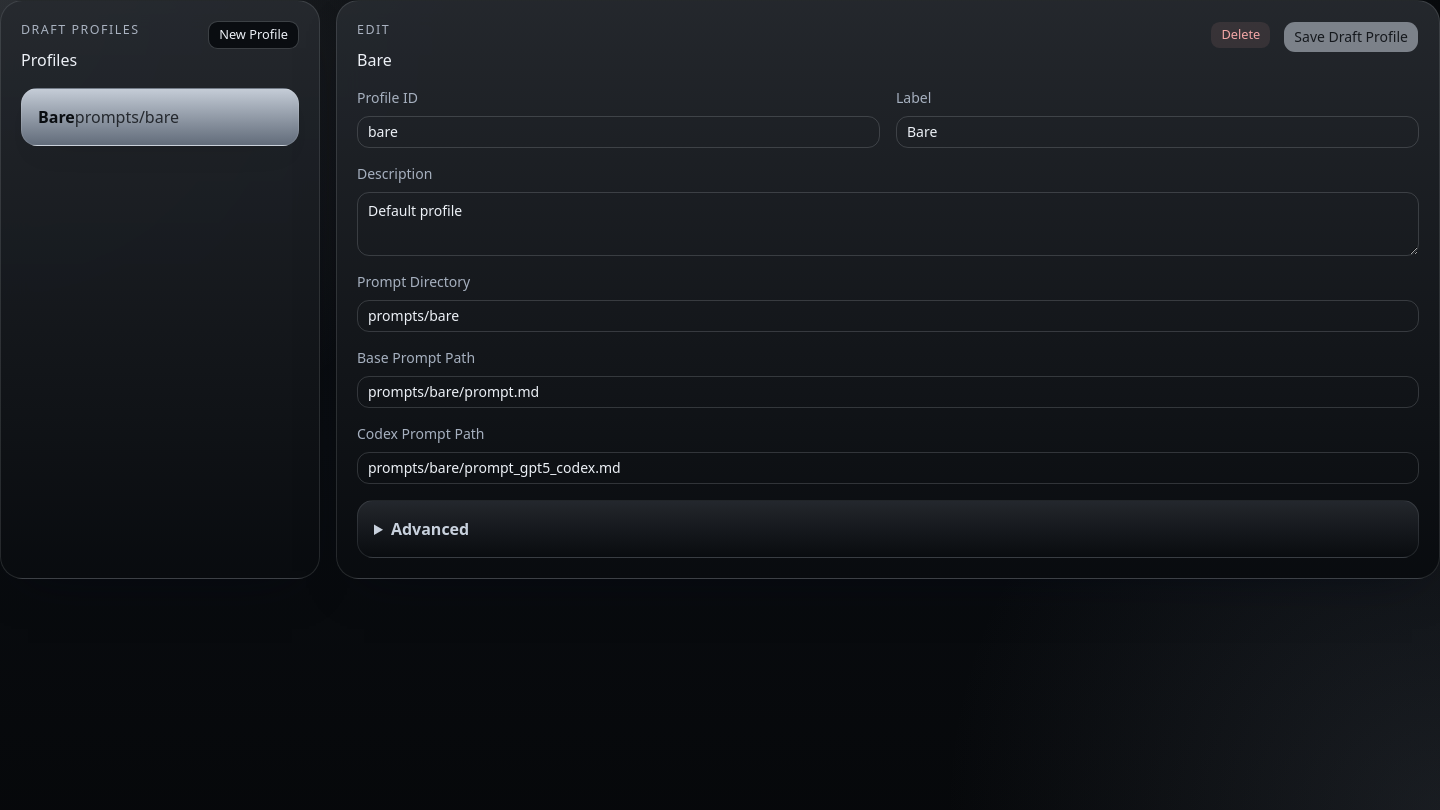
admin config editor forms › blocks creating a profile when the required id is blank
This screenshot has width=1440, height=810.
Click the button "New Profile" at (254, 35), box [208,21,299,49]
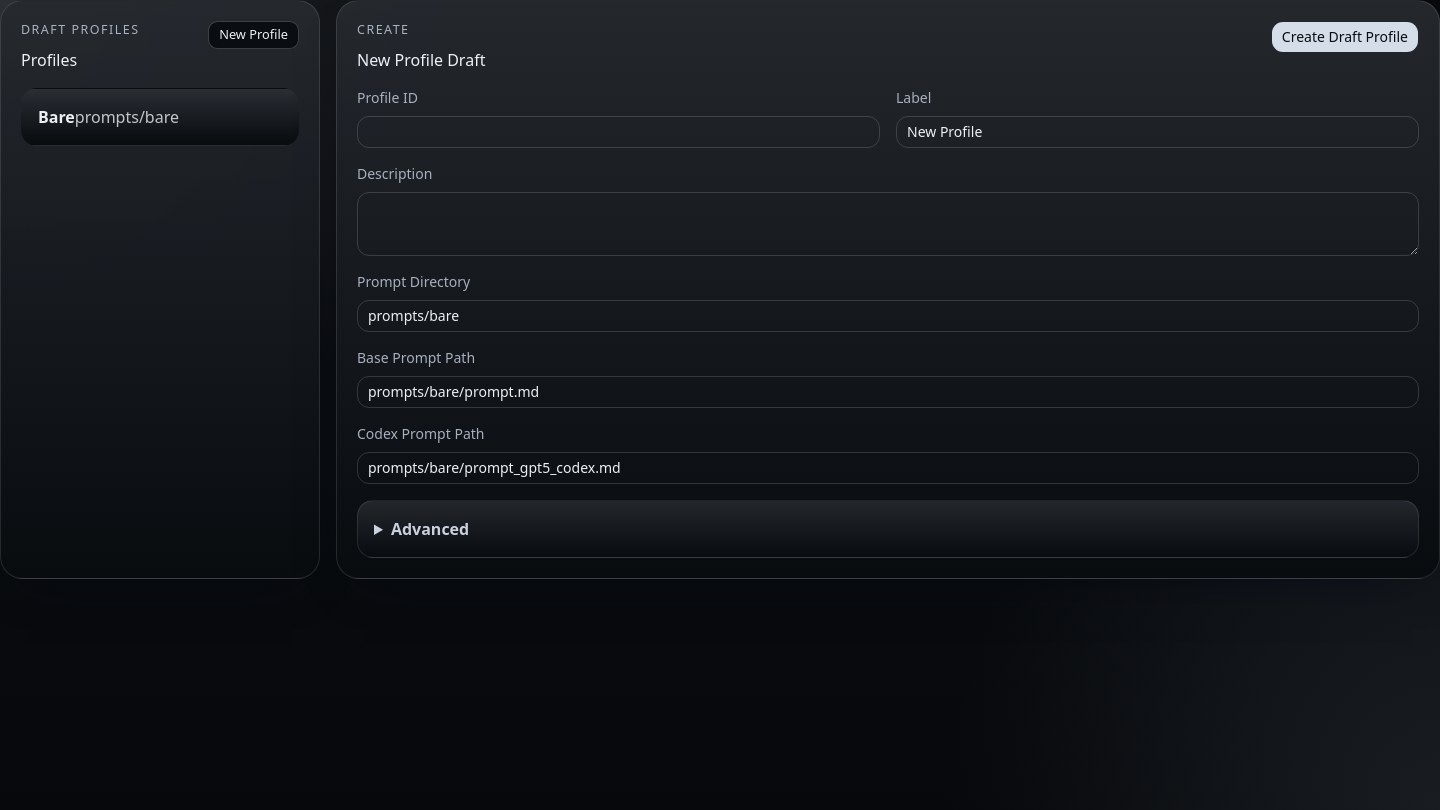
Click the button "Create Draft Profile" at (1345, 37), box [1271,21,1419,53]
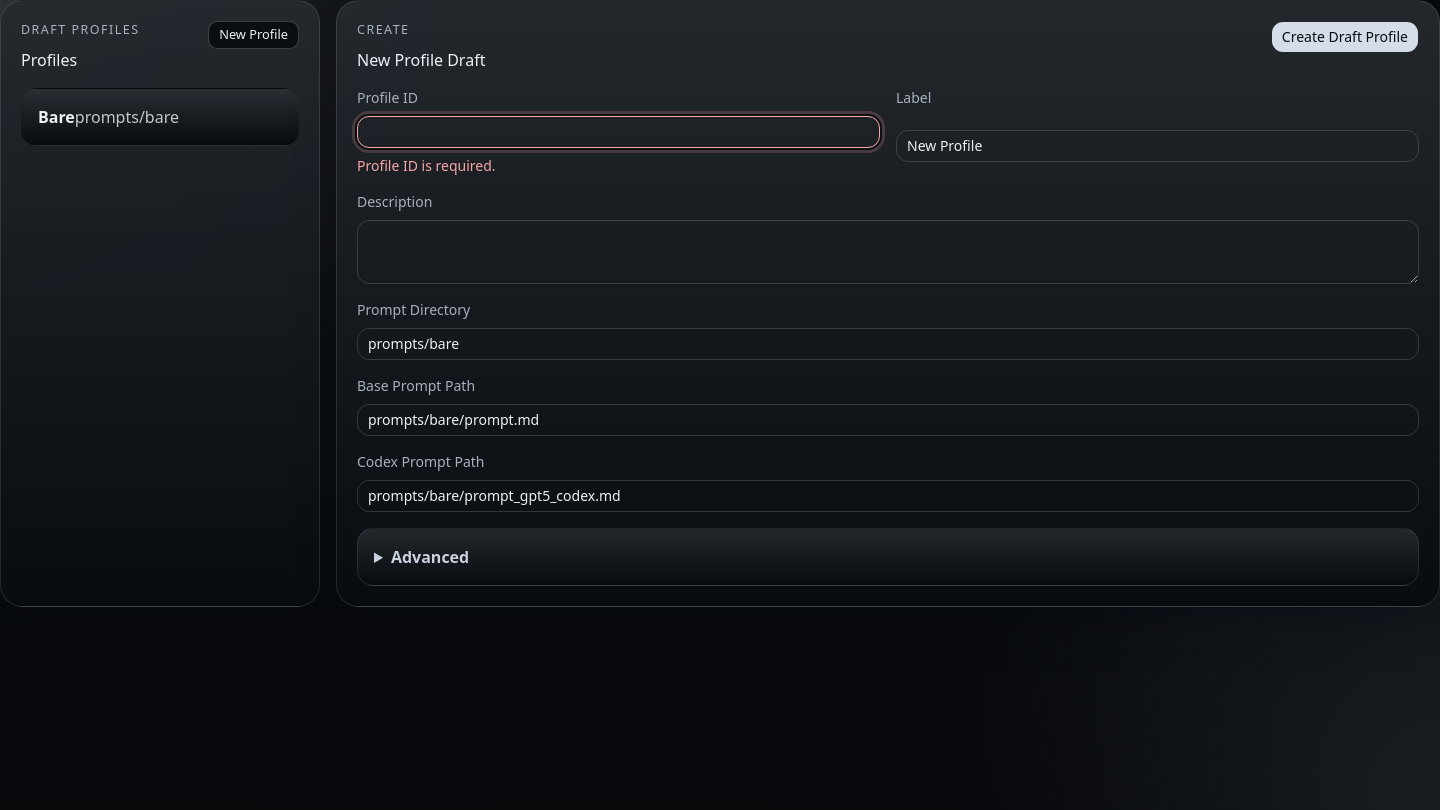
Check: the text "Profile ID is required." is shown, box [357,156,496,175]
